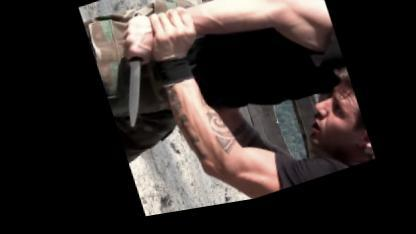knife: (91, 11, 172, 136)
